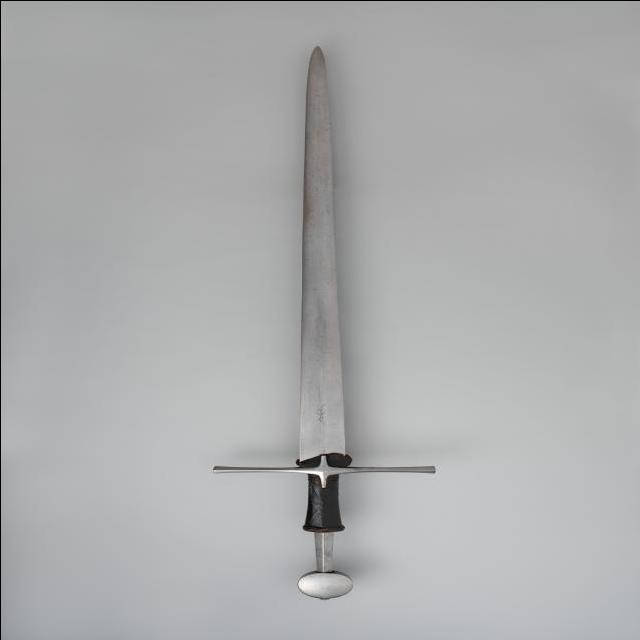sword: (190, 28, 466, 607)
